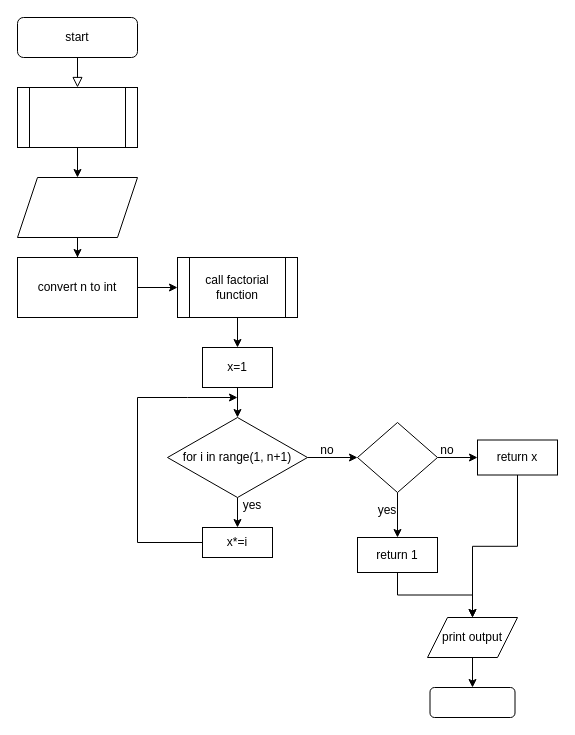
The diagram is 575 pixels wide and 735 high, and some of its shapes have lost their labels. The box of each missing label's shape, as (x1, y1, x2, y2) in pixels:
call main function: (16, 86, 138, 148)
end: (429, 686, 515, 718)
get n: (16, 176, 138, 238)
if n==0: (356, 422, 438, 492)
